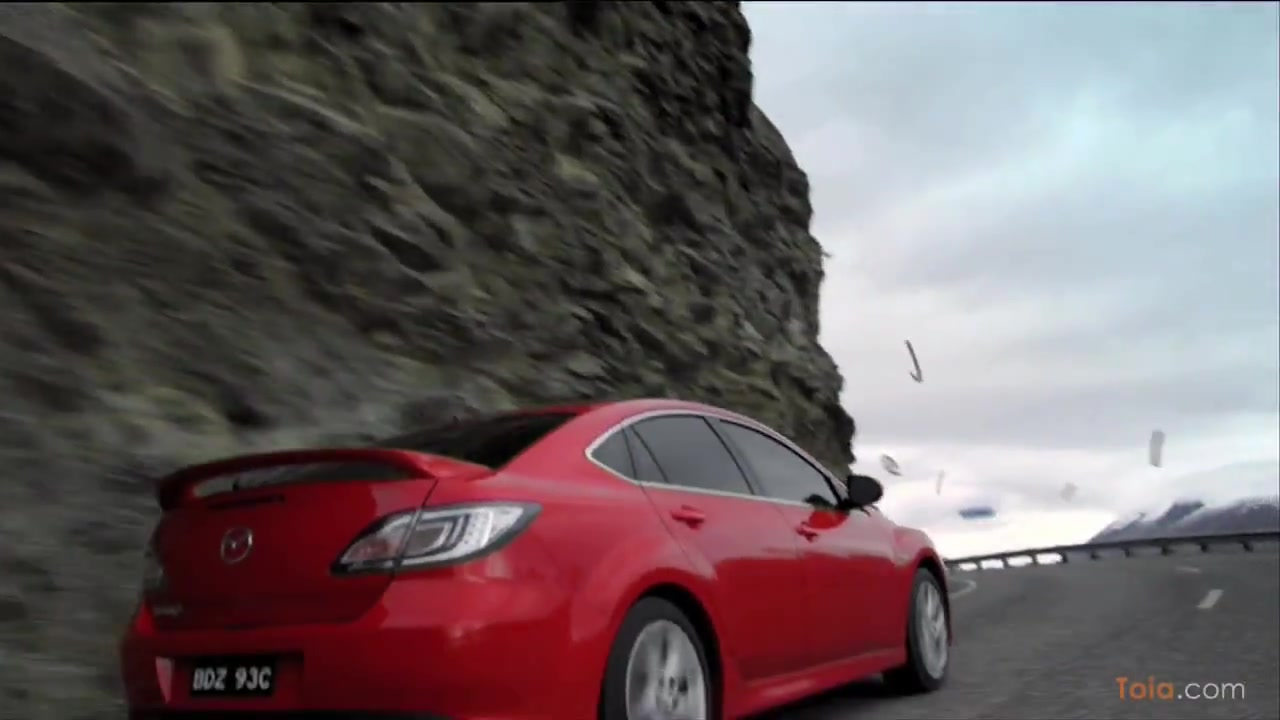car: (117, 393, 957, 720)
